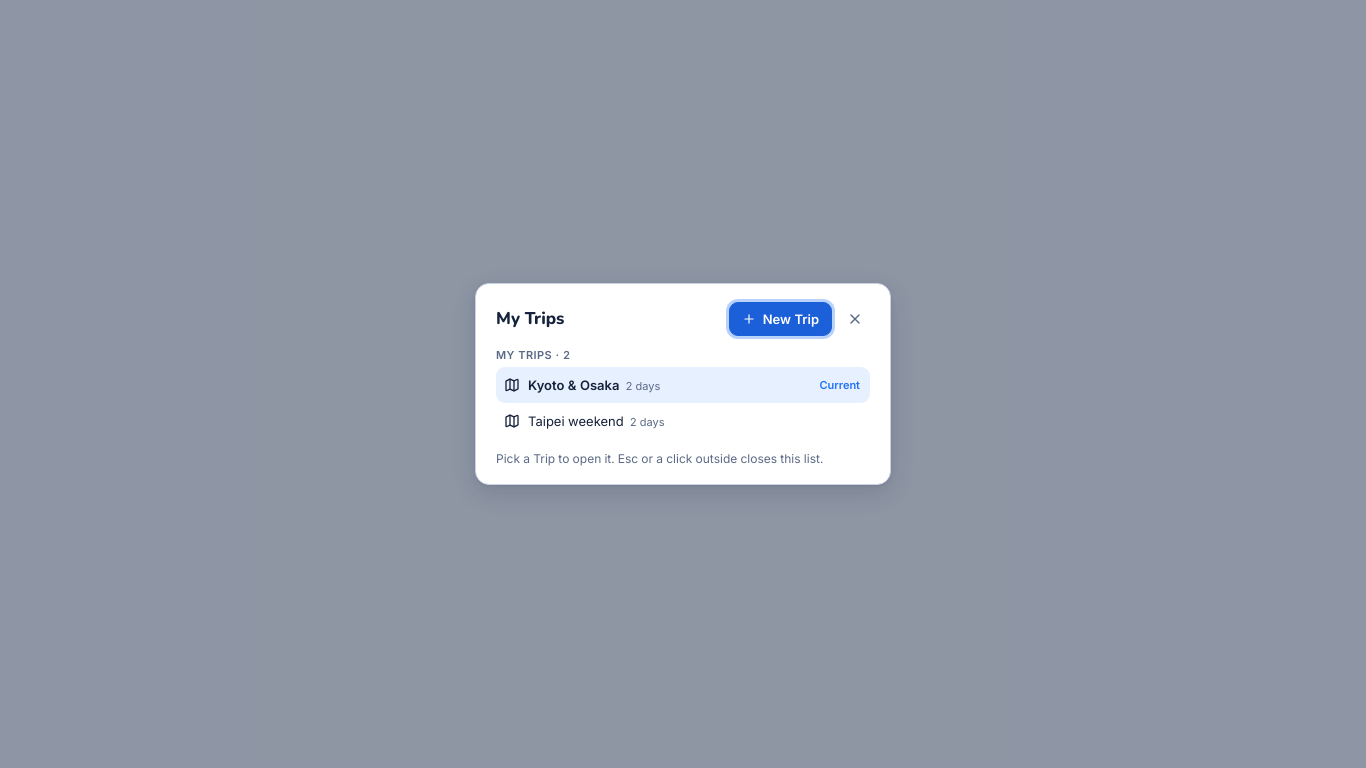
Scenario: Trip list › keeps the New Trip dialog open with its fields when the Trip could not be created
The image size is (1366, 768).
Click the button "New Trip" at (780, 319), box [729,302,832,336]
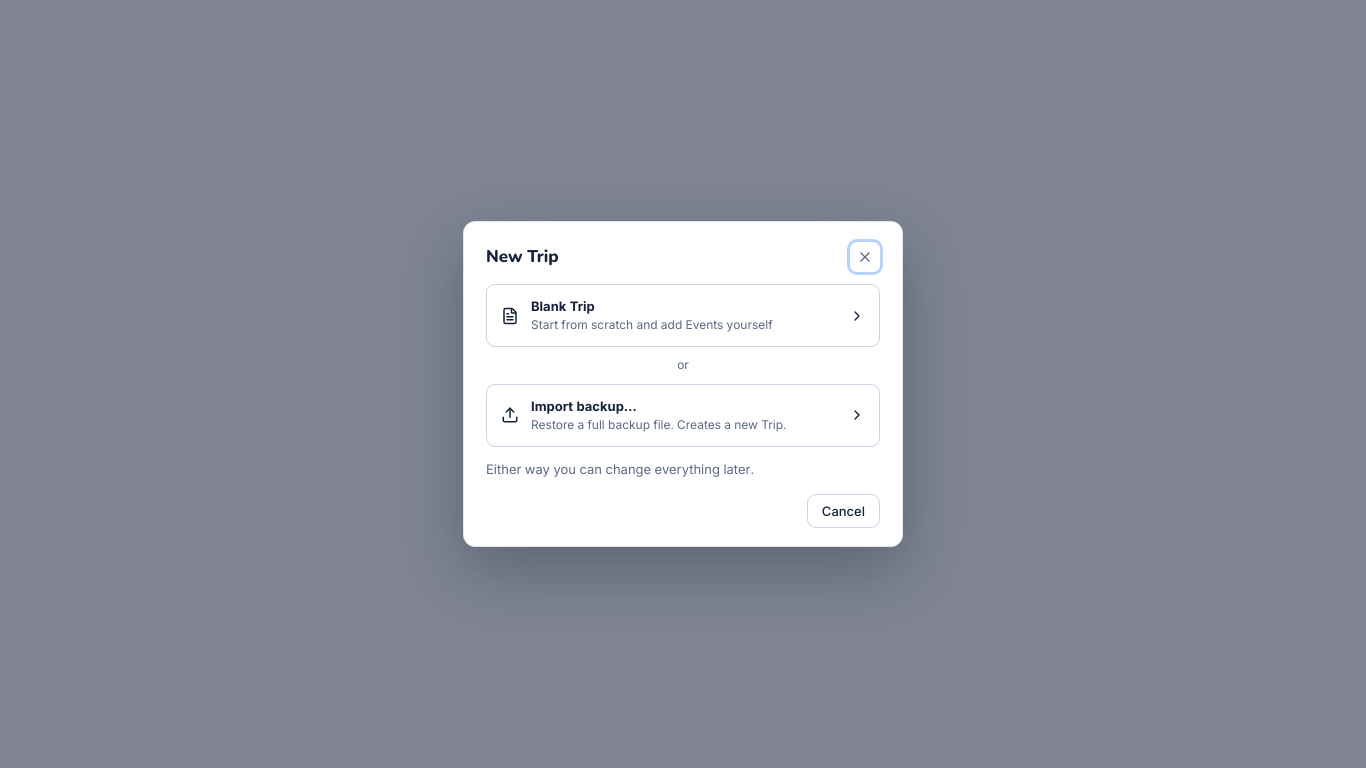
Click the button "Blank Trip Start from scratch and add Events yourself" at (683, 316), box [486,284,880,347]
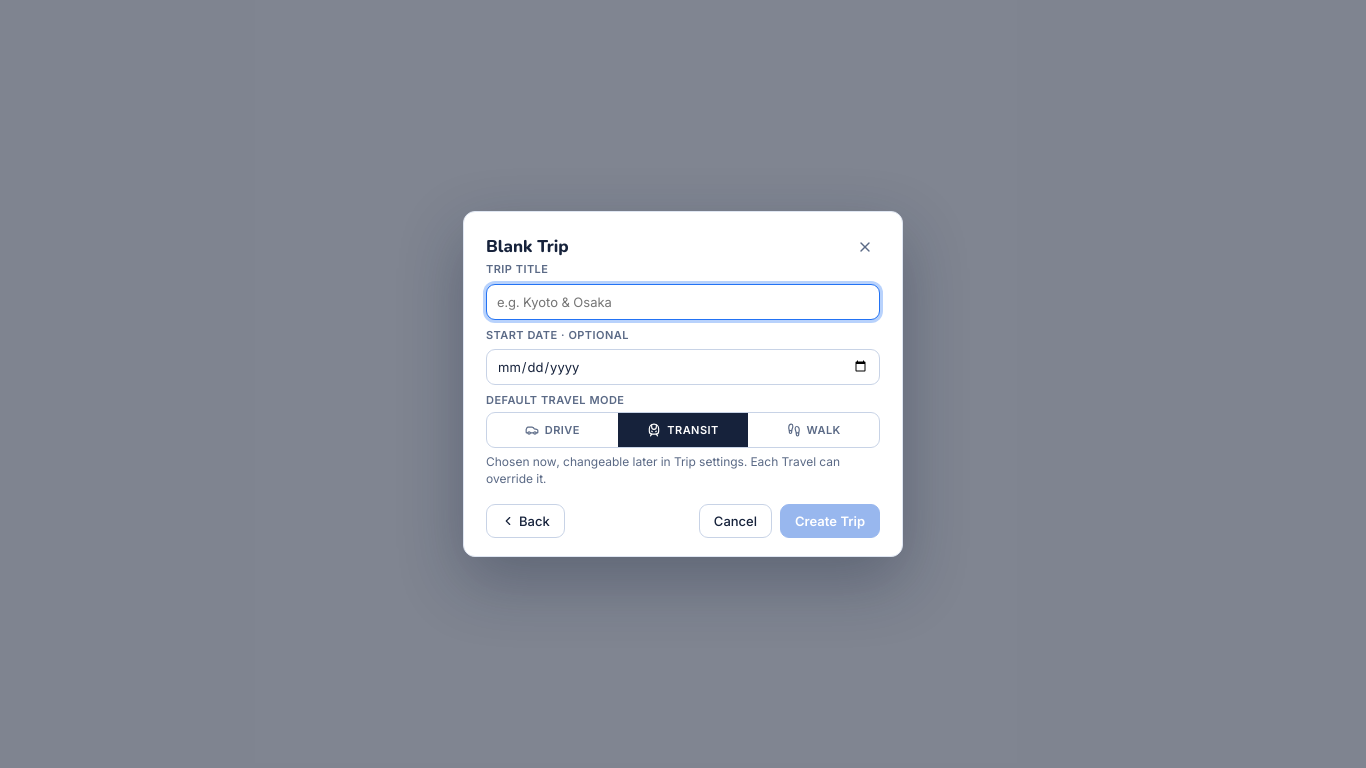
Type "Seoul" into the field labelled "Trip title" at (683, 302), box [486,284,880,320]
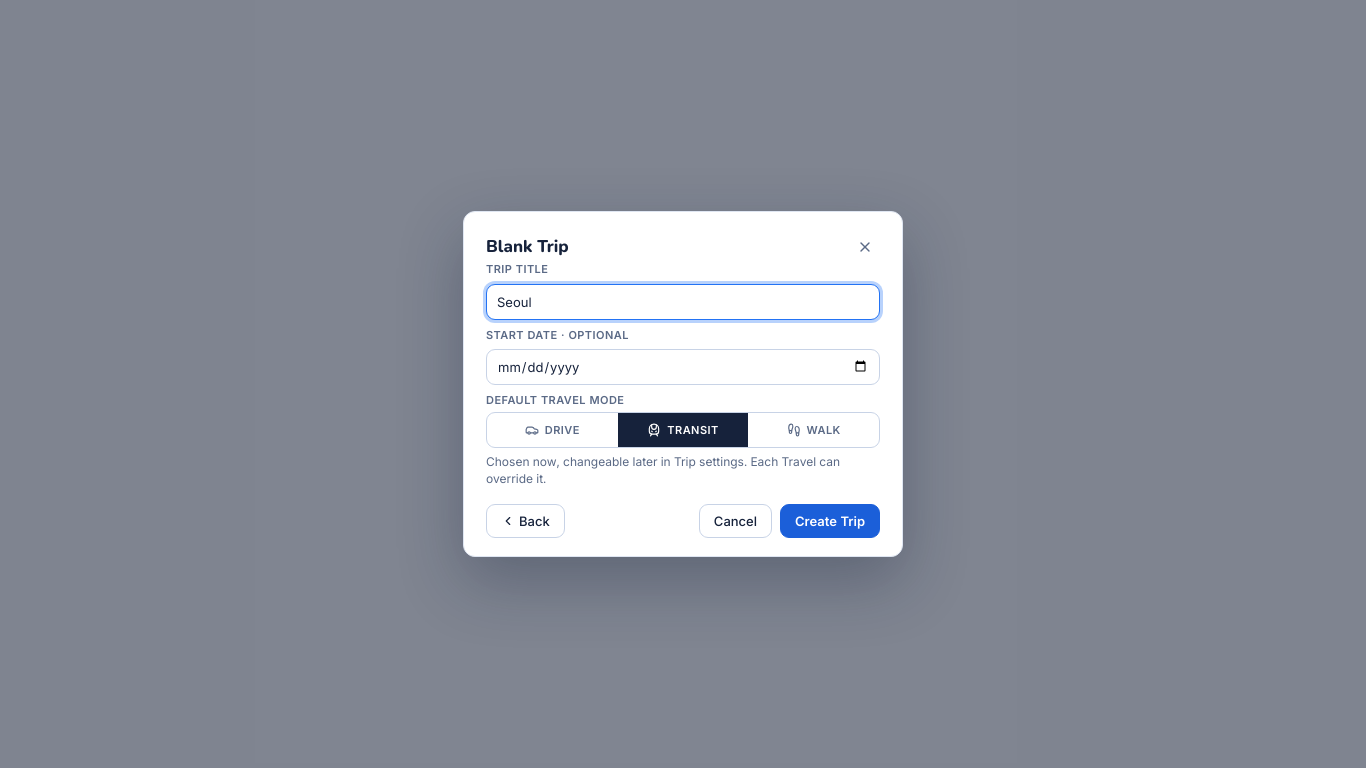
Click the button "Create Trip" at (830, 521), box [780,504,880,538]
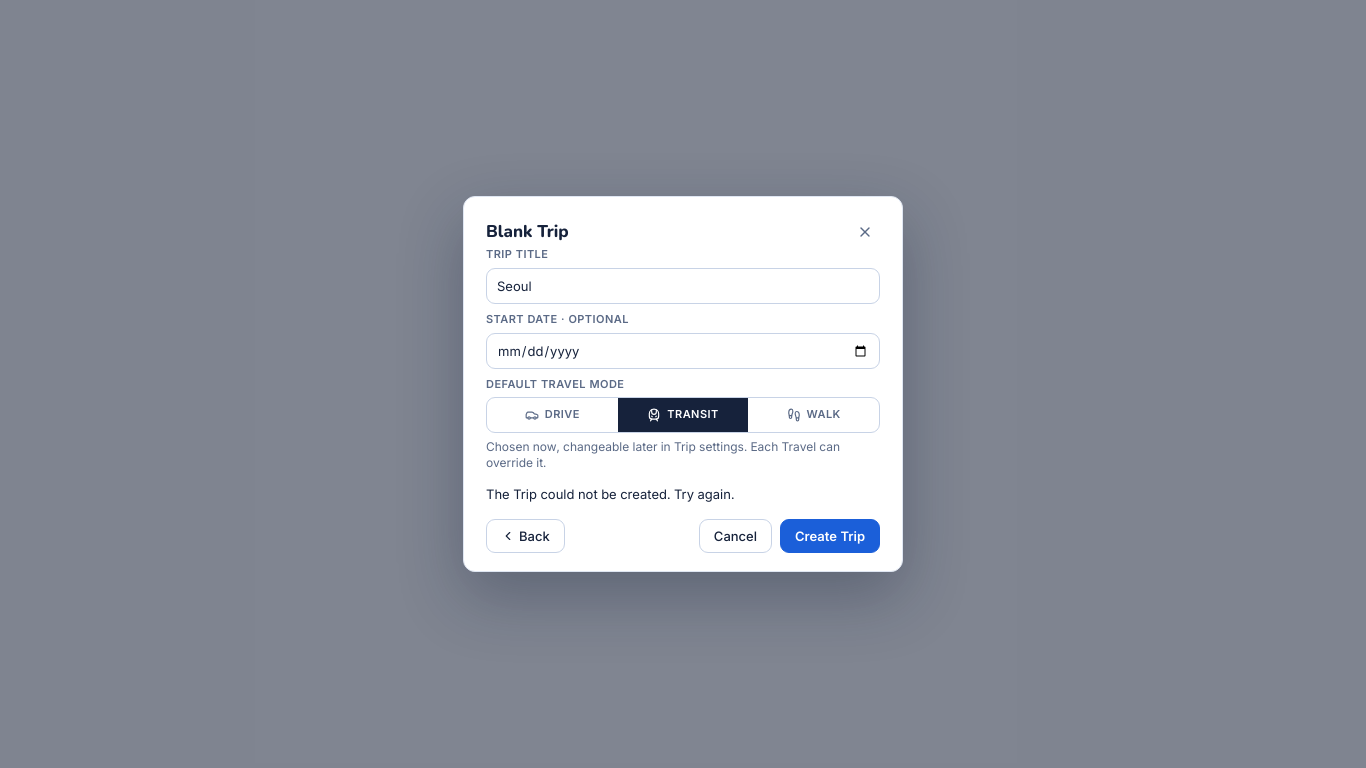
Result: the message reads "The Trip could not be created. Try again." at [486,486,734,502]
